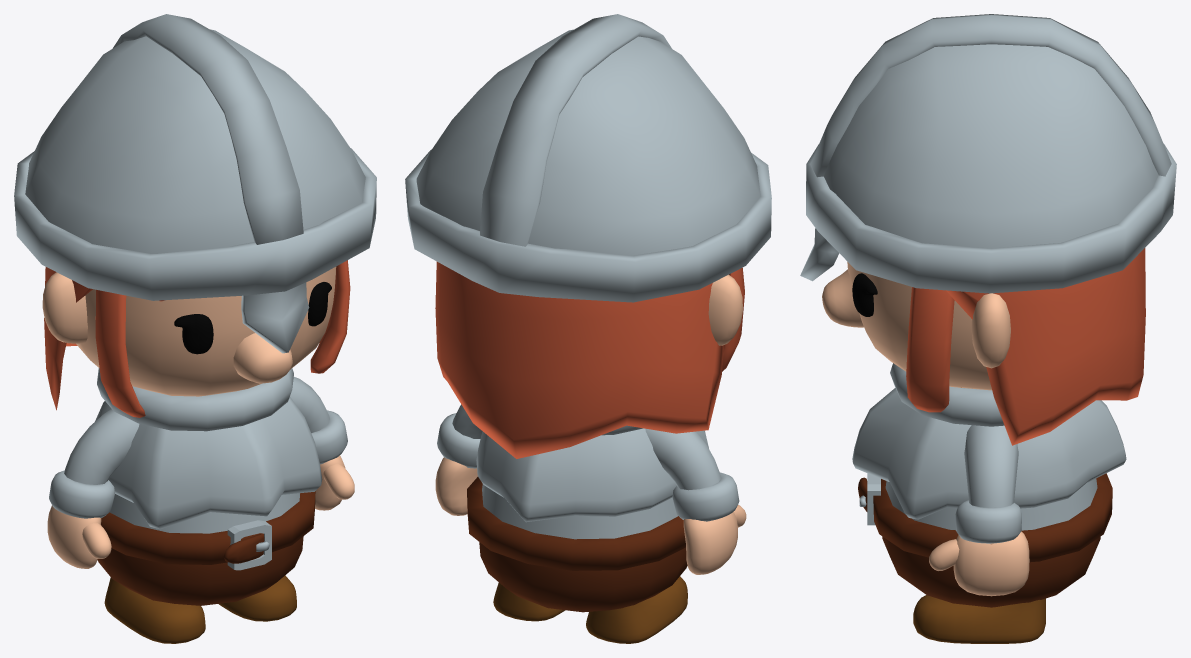
Rendered from Knight3final.glb.
3 renders of one model, left to right at view 1: azimuth 30°, elevation 25°; view 2: azimuth 150°, elevation 25°; view 3: azimuth 270°, elevation 25°, orthographic. The views are drawn at different scales.
Visible parts, largest first — view 1: Knight3_Head, Knight3_Body, Knight3_Right_Arm, Knight3_Left_Arm, Knight3_Right_Foot, Knight3_Left_Foot; view 2: Knight3_Head, Knight3_Body, Knight3_Right_Arm, Knight3_Left_Arm, Knight3_Right_Foot, Knight3_Left_Foot; view 3: Knight3_Head, Knight3_Body, Knight3_Left_Arm, Knight3_Left_Foot.
Boxes of the visible parts, bbox=[...] form: Knight3_Head: bbox=[14, 14, 376, 417]; Knight3_Body: bbox=[95, 368, 322, 605]; Knight3_Right_Arm: bbox=[47, 409, 139, 568]; Knight3_Left_Arm: bbox=[290, 377, 354, 510]; Knight3_Right_Foot: bbox=[104, 577, 205, 643]; Knight3_Left_Foot: bbox=[219, 575, 296, 621]; Knight3_Head: bbox=[405, 14, 771, 458]; Knight3_Body: bbox=[467, 425, 708, 612]; Knight3_Right_Arm: bbox=[645, 428, 746, 574]; Knight3_Left_Arm: bbox=[435, 404, 482, 515]; Knight3_Right_Foot: bbox=[586, 576, 687, 643]; Knight3_Left_Foot: bbox=[493, 582, 564, 621]; Knight3_Head: bbox=[800, 14, 1176, 445]; Knight3_Body: bbox=[852, 363, 1126, 607]; Knight3_Left_Arm: bbox=[929, 425, 1029, 596]; Knight3_Left_Foot: bbox=[913, 595, 1045, 643].
Bounding box in the file's own units: 1.86 × 3.28 × 1.89.
